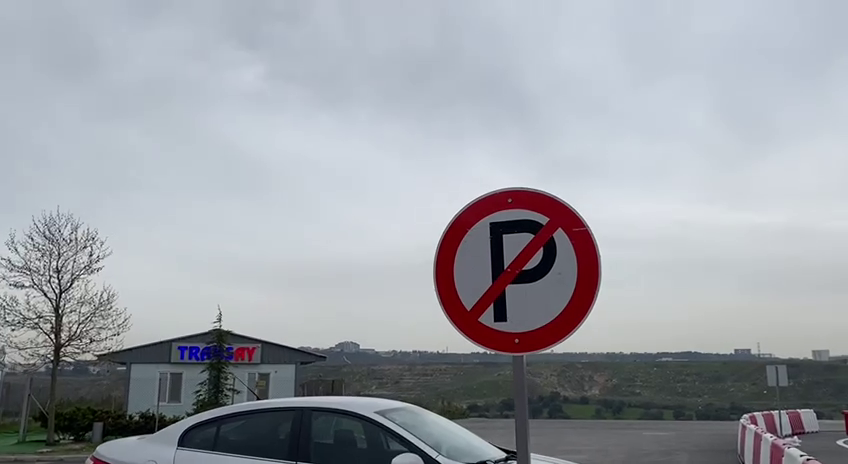noparking: (428, 180, 605, 358)
